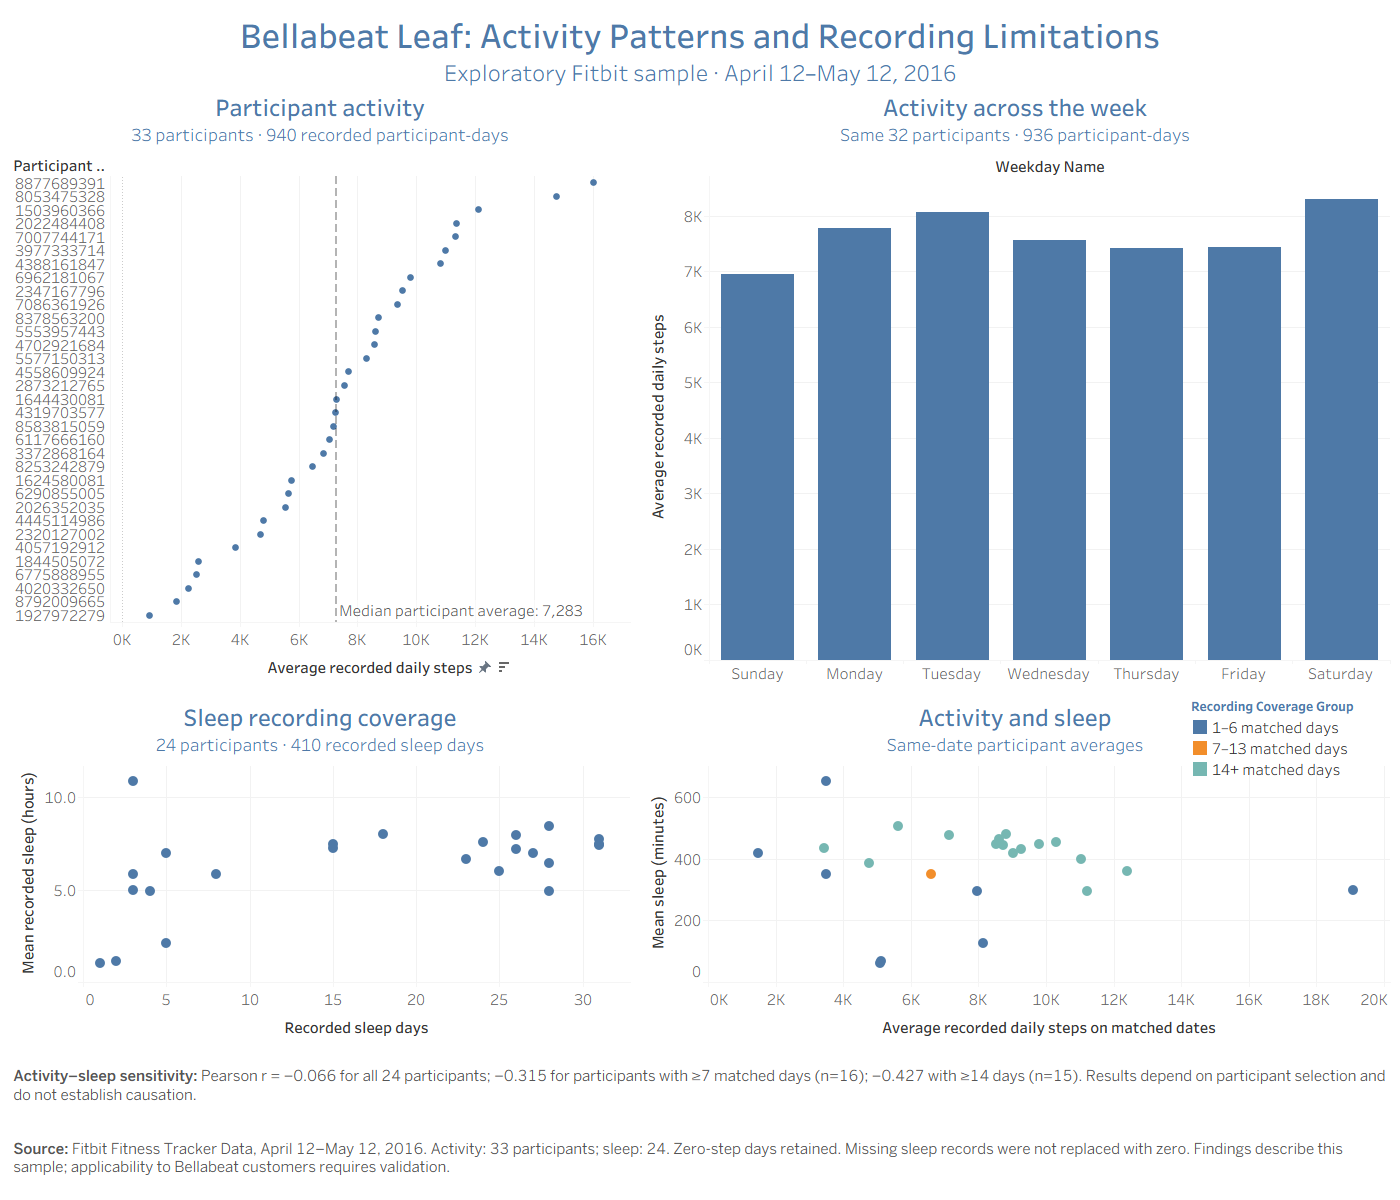

Layout of this report page (visuals, bound fields, positions):
{"tool":"tableau","page":{"name":"Activity and Recording Patterns","canvas":[1400,1200],"ordinal":0},"visuals":[{"type":"title","box":[8,8,1384,84]},{"type":"worksheet","title":"Average recorded daily steps vary across participants","mark":"Circle","rows":["participant_id"],"cols":["participant_mean_steps"],"box":[10,85,620,600]},{"type":"worksheet","title":"Weekday Activity","mark":"Bar","rows":["participant_equal_mean_steps"],"cols":["Calculation_4132028164030464"],"box":[640,85,750,600]},{"type":"worksheet","title":"Sleep Recording Coverage","mark":"Circle","rows":["mean_asleep_hours"],"cols":["recorded_sleep_days"],"box":[10,695,620,350]},{"type":"worksheet","title":"Activity and Sleep","mark":"Circle","rows":["mean_asleep_minutes_on_matched_days"],"cols":["mean_steps_on_matched_days"],"box":[640,695,750,350]},{"type":"legend","title":"Activity and Sleep","param":"[federated.0h4qky70z7g3pf1ggrg3s02w50wp].[none:Calculation_6055623963054081:nk]","box":[1190,695,200,110]},{"type":"text","box":[10,1055,1380,60]},{"type":"text","box":[10,1125,1380,65]}]}

Visuals, with their boxes in screenshot pixels (x1, y1, x2, y2), scaled from the page's 1400x1200 canvas onto the 1400x1200 screenshot:
title: 8, 8, 1392, 92
"Average recorded daily steps vary across participants" worksheet (Circle marks): 10, 85, 630, 685
"Weekday Activity" worksheet (Bar marks): 640, 85, 1390, 685
"Sleep Recording Coverage" worksheet (Circle marks): 10, 695, 630, 1045
"Activity and Sleep" worksheet (Circle marks): 640, 695, 1390, 1045
"Activity and Sleep" legend: 1190, 695, 1390, 805
text: 10, 1055, 1390, 1115
text: 10, 1125, 1390, 1190
